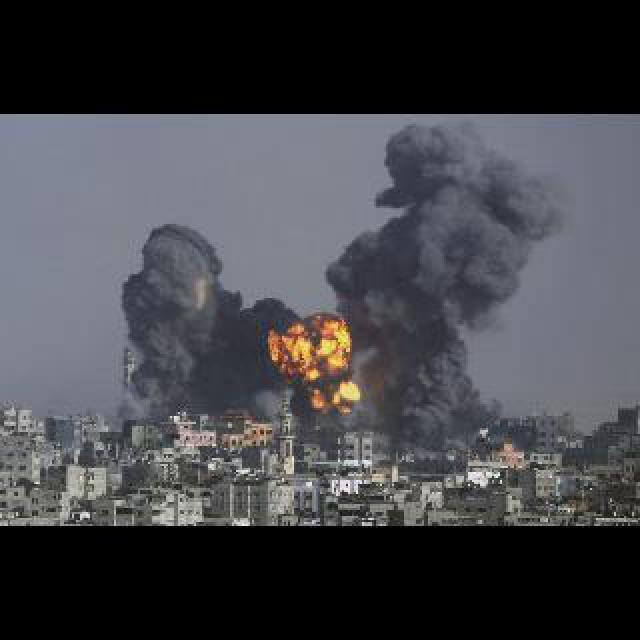Fire: (268, 315, 374, 418)
Smoke: (334, 120, 568, 447), (118, 223, 280, 423)
